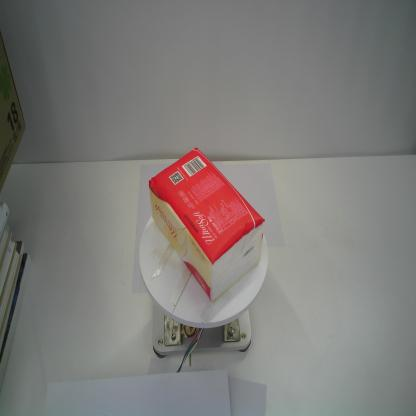Tissue: (148, 146, 265, 303)
